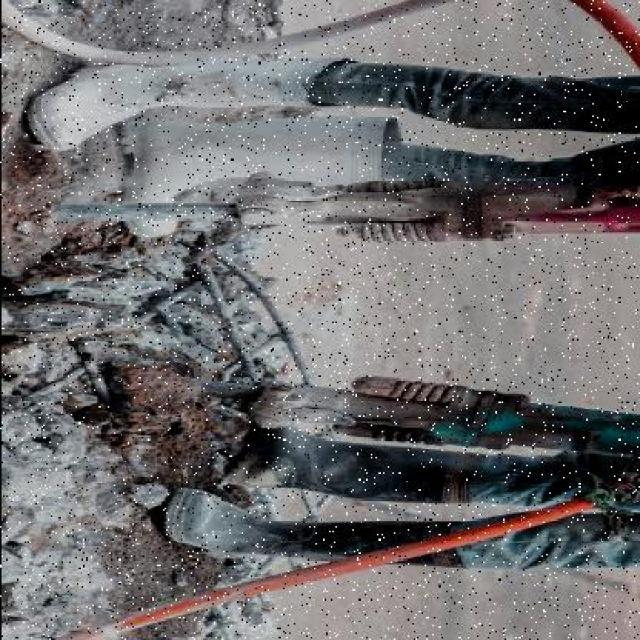shoes: (114, 115, 403, 243), (25, 52, 342, 156), (162, 501, 452, 565), (222, 437, 495, 497)
